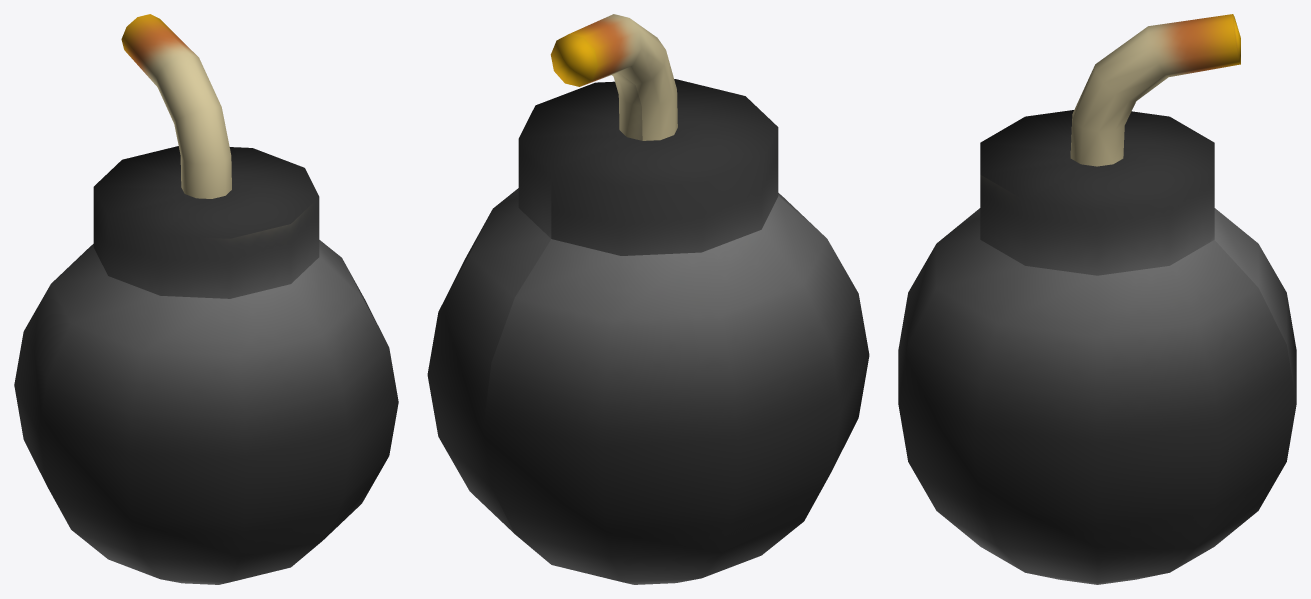
File: ms_bomb.fbx
3 renders of one model, left to right at view 1: azimuth 30°, elevation 25°; view 2: azimuth 150°, elevation 25°; view 3: azimuth 270°, elevation 25°, orthographic. The views are drawn at different scales.
Parts seen in each view (by area): view 1: polySurface1; view 2: polySurface1; view 3: polySurface1.
Part boxes in pixels (box(x1,y1,x2,y2)): polySurface1: box(14, 14, 398, 584); polySurface1: box(427, 14, 869, 584); polySurface1: box(898, 14, 1296, 584).
Bounding box in the file's own units: 114 × 165 × 108.
